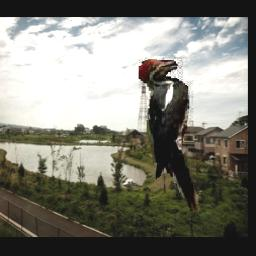Woodpecker: (138, 58, 197, 212)
